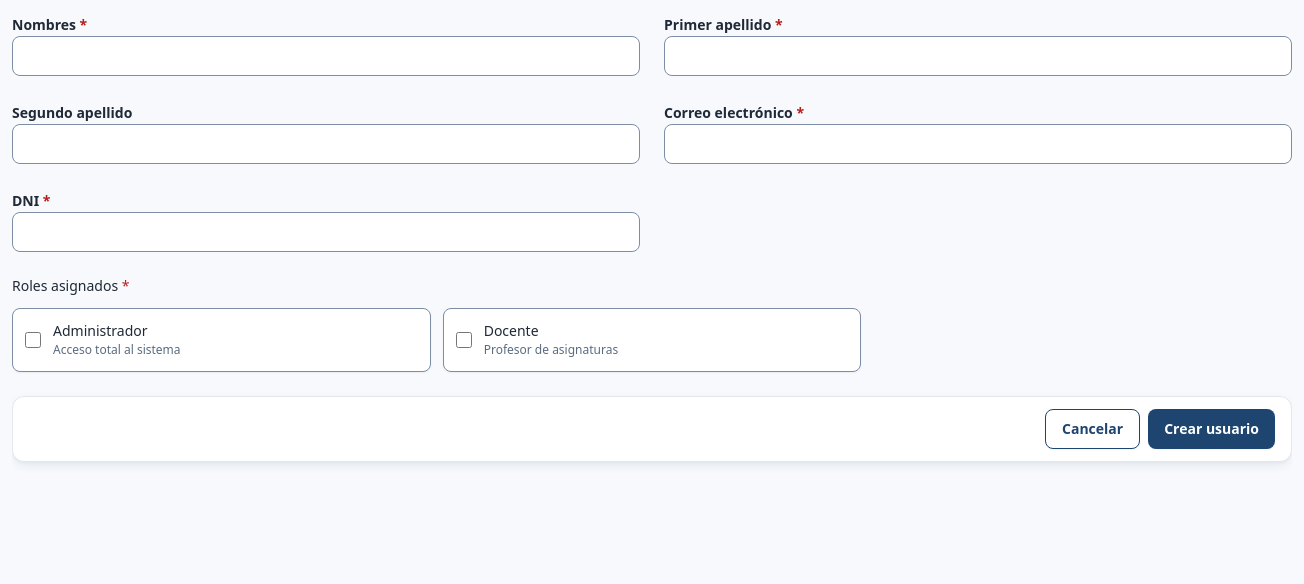
Test: UserForm component (T-003-27) › shows a general alert for other errors
Expected: the text "Administrador" is shown, [53,321,148,340]
Type "Carlos" into the field labelled "Nombres *".
click(326, 56); type("Carlos")  # box [12,36,640,76]
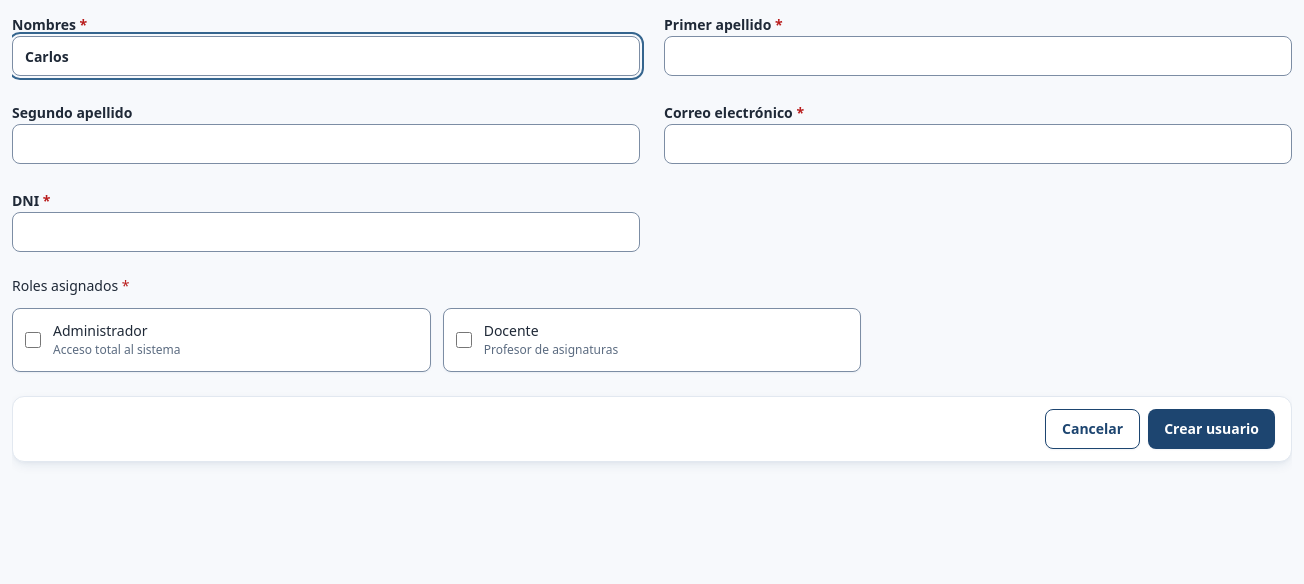
Type "Ruiz" into the field labelled "Primer apellido *".
click(978, 56); type("Ruiz")  # box [664,36,1292,76]
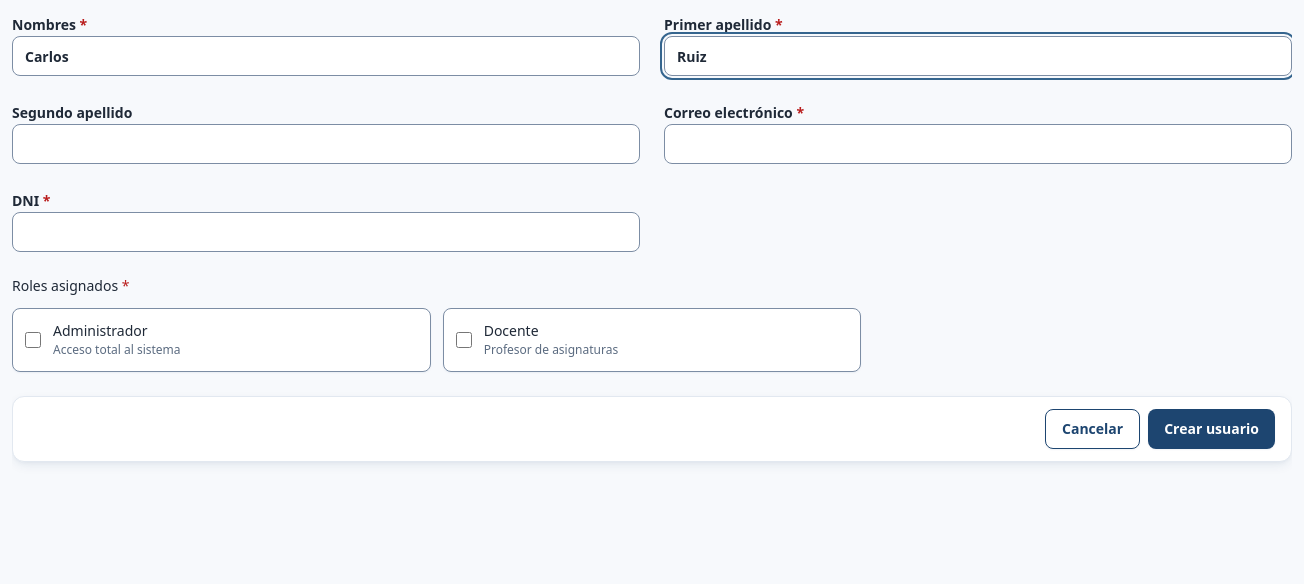
Type "test@unterm.edu.pe" into the field labelled "Correo electrónico *".
click(978, 144); type("test@unterm.edu.pe")  # box [664,124,1292,164]
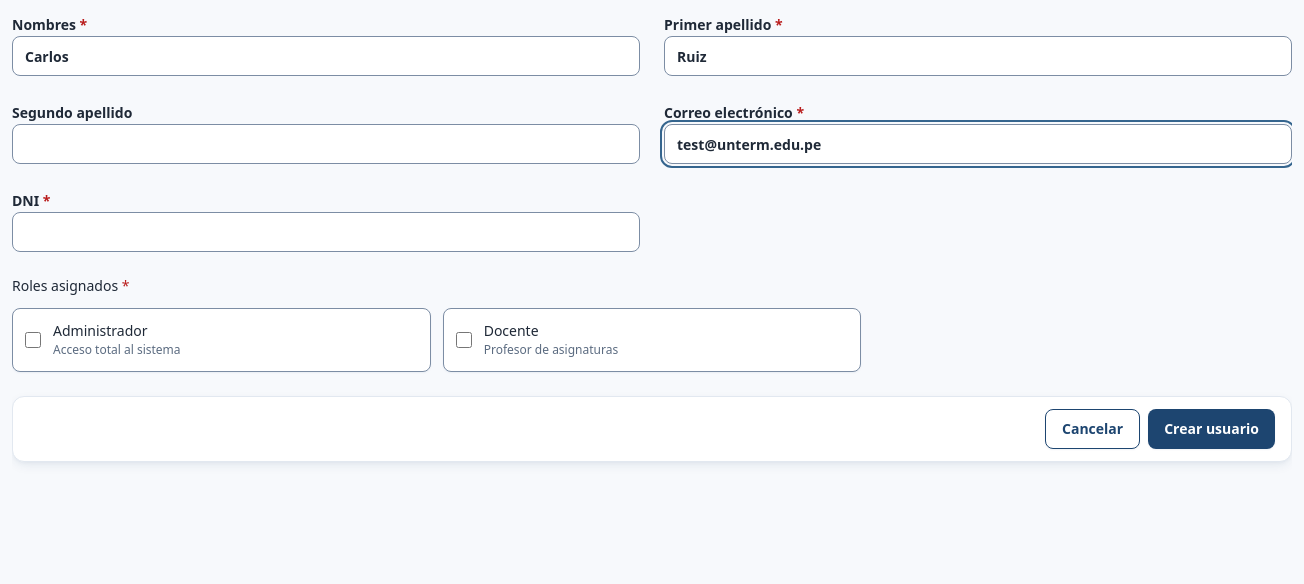
Type "71234567" into the field labelled "DNI *".
click(326, 232); type("71234567")  # box [12,212,640,252]
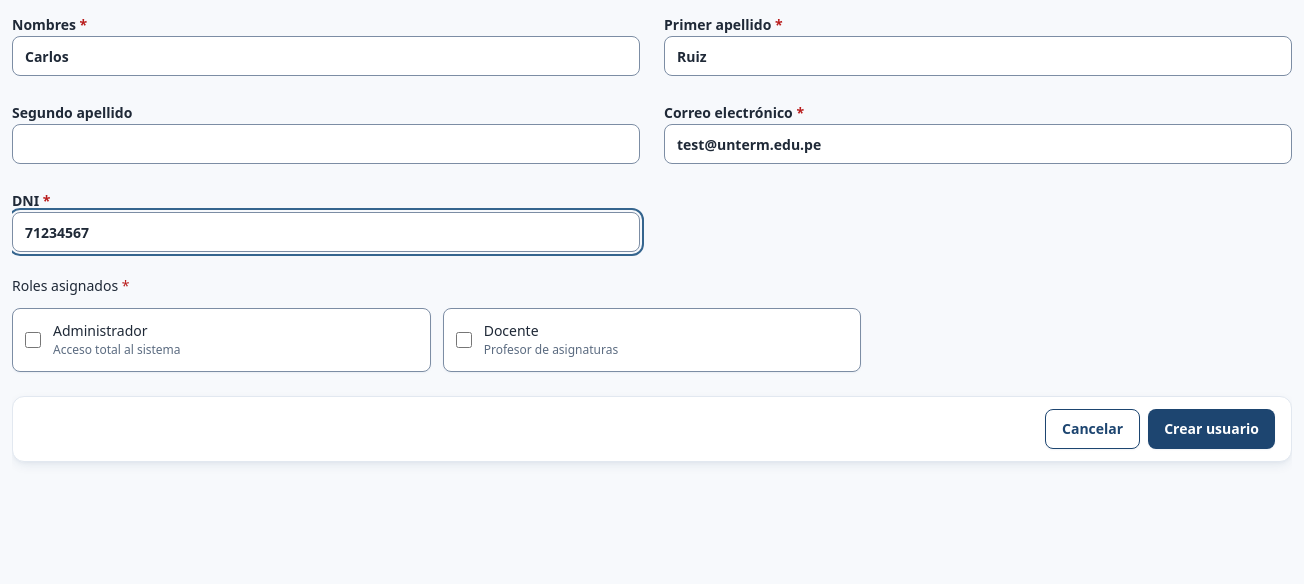
Click the checkbox labelled "Administrador Acceso total al sistema".
click(33, 340)  # box [25,332,41,348]
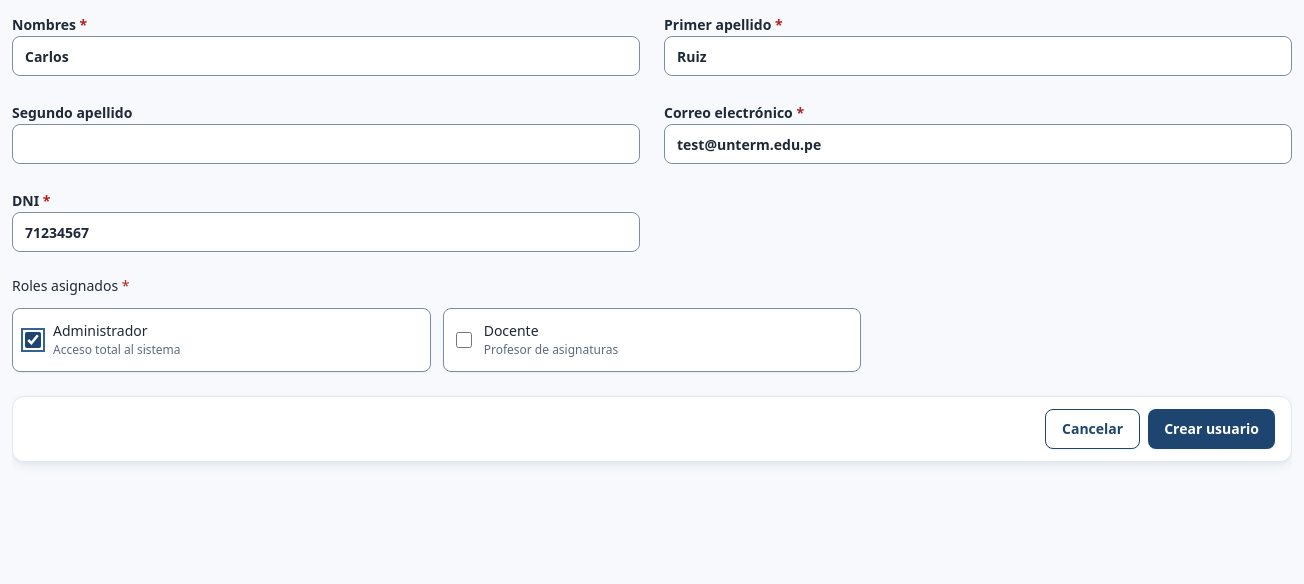
Click the button "Crear usuario".
click(1212, 429)  # box [1148,409,1275,449]
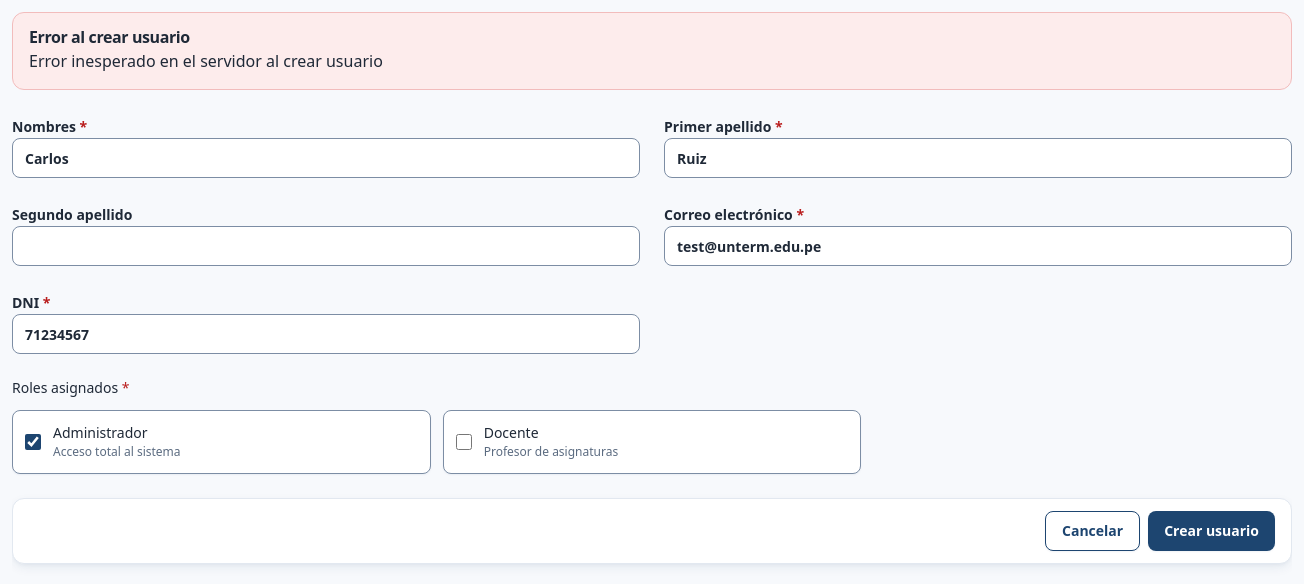
Expected: the heading "Error al crear usuario" is shown, [29,26,190,48]
Expected: the text "Error inesperado en el servidor al crear usuario" is shown, [29,50,383,72]
